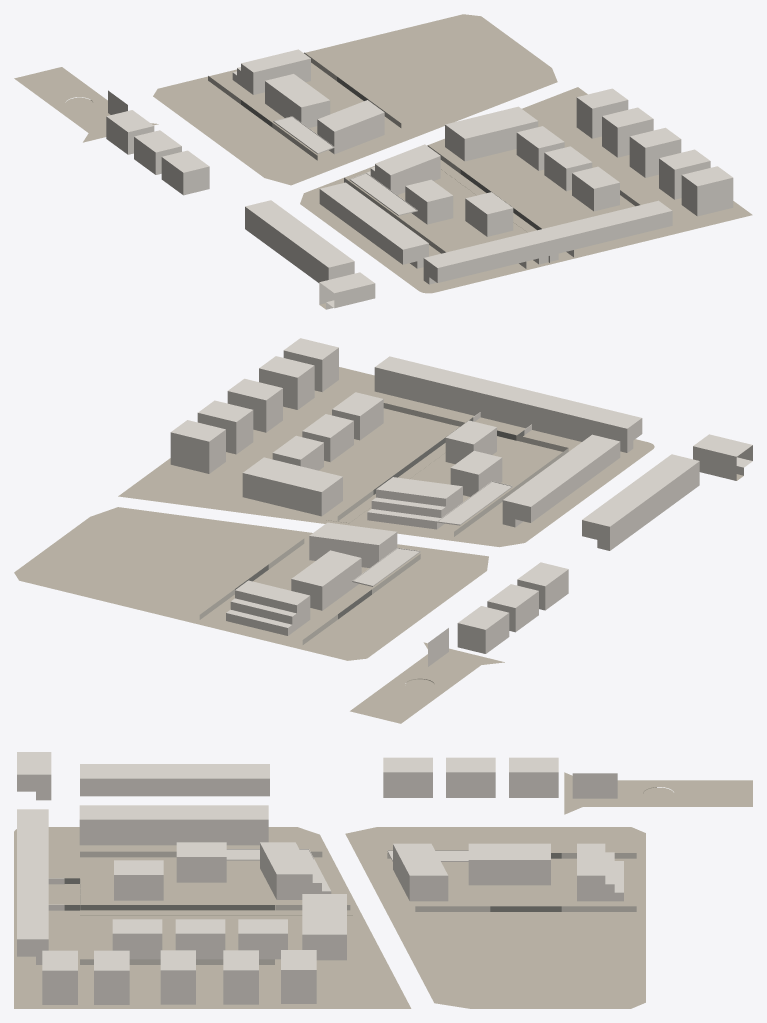
3 views of the same model, one above another, from view 1: azimuth 30°, elevation 25°; view 2: azimuth 150°, elevation 25°; view 3: azimuth 270°, elevation 25° (orthographic). The views are drawn at different scales.
Parts seen in each view (by area): view 1: entorno_suelo, entorno_edif, R0_suelo, B_edif, A_edif, B_suelo, A_suelo, R0_edif, E1_edif, E2_edif, R2_edif, R4_edif (+11 smaller); view 2: entorno_suelo, entorno_edif, R0_suelo, B_edif, A_edif, B_suelo, A_suelo, R4_edif, R1_edif, R2_edif, W2_edif, E0_edif (+12 smaller); view 3: entorno_suelo, entorno_edif, R0_suelo, B_edif, A_edif, W0_edif, W1_edif, W2_edif, E0_edif, E1_edif, E2_edif, entorno_malla (+12 smaller).
Boxes of the visible parts, x1,y1,x2,y2 form: entorno_suelo: (14,14,739,309); entorno_edif: (106,49,733,309); R0_suelo: (300,87,752,293); B_edif: (445,106,619,211); A_edif: (350,144,513,236); B_suelo: (437,143,634,227); A_suelo: (349,169,527,252); R0_edif: (403,243,478,284); E1_edif: (629,127,681,177); E2_edif: (602,107,653,157); R2_edif: (513,224,574,268); R4_edif: (609,200,672,237); entorno_suelo: (14,368,743,723); entorno_edif: (170,338,752,666); R0_suelo: (118,367,654,547); B_edif: (242,392,383,516); A_edif: (367,420,512,529); B_suelo: (226,408,453,512); A_suelo: (349,436,559,536); R4_edif: (374,356,443,404); R1_edif: (524,395,597,441); R2_edif: (473,382,546,429); W2_edif: (460,478,560,527); E0_edif: (259,356,314,409); entorno_suelo: (17,772,752,1008); entorno_edif: (17,752,623,1004); R0_suelo: (14,827,411,1008); B_edif: (112,894,346,960); A_edif: (114,842,331,900); W0_edif: (79,805,142,845); W1_edif: (142,805,205,845); W2_edif: (205,805,268,845); E0_edif: (94,950,129,1004); E1_edif: (160,950,195,1004); E2_edif: (223,950,258,1004); entorno_malla: (80,853,561,911).
Bounding box in the file's own units: 179 × 12.73 × 235.
